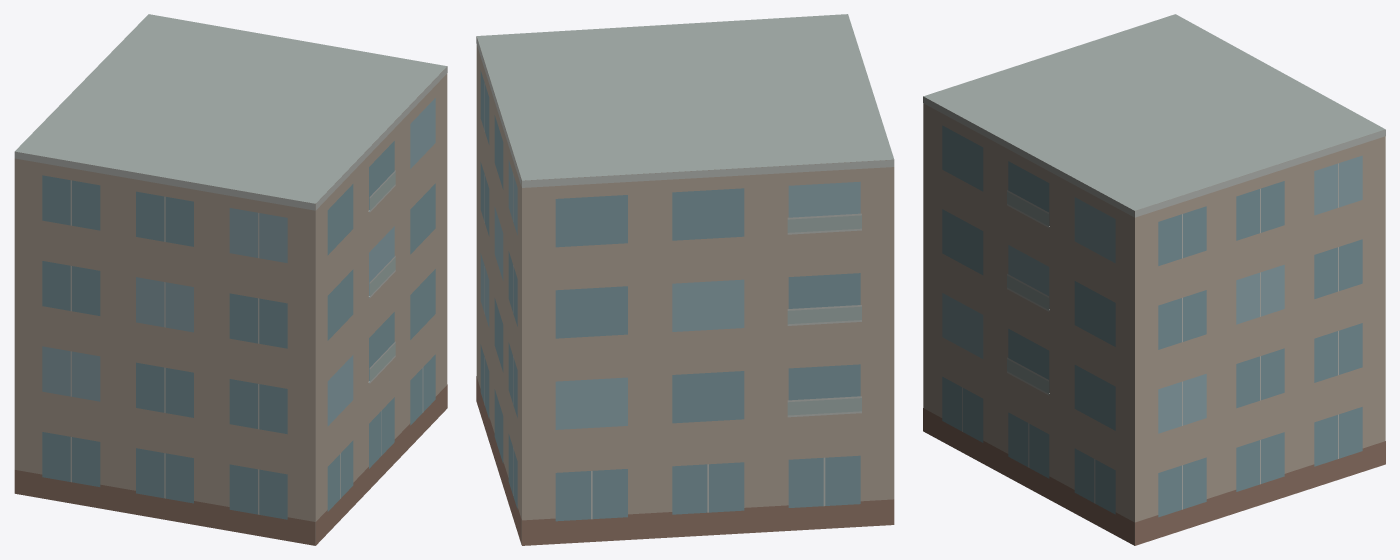
The model's file is survey-upis-32949735.glb.
3 renders of one model, left to right at view 1: azimuth 30°, elevation 25°; view 2: azimuth 150°, elevation 25°; view 3: azimuth 270°, elevation 25°, orthographic. The views are drawn at different scales.
Parts seen in each view (by area): view 1: survey-upis-32949735.tmp; view 2: survey-upis-32949735.tmp; view 3: survey-upis-32949735.tmp.
Part boxes in pixels (x1=…): survey-upis-32949735.tmp: x1=14, y1=14, x2=447, y2=545; survey-upis-32949735.tmp: x1=476, y1=14, x2=894, y2=545; survey-upis-32949735.tmp: x1=923, y1=14, x2=1385, y2=545.
Bounding box in the file's own units: 15.21 × 12.06 × 15.1.
